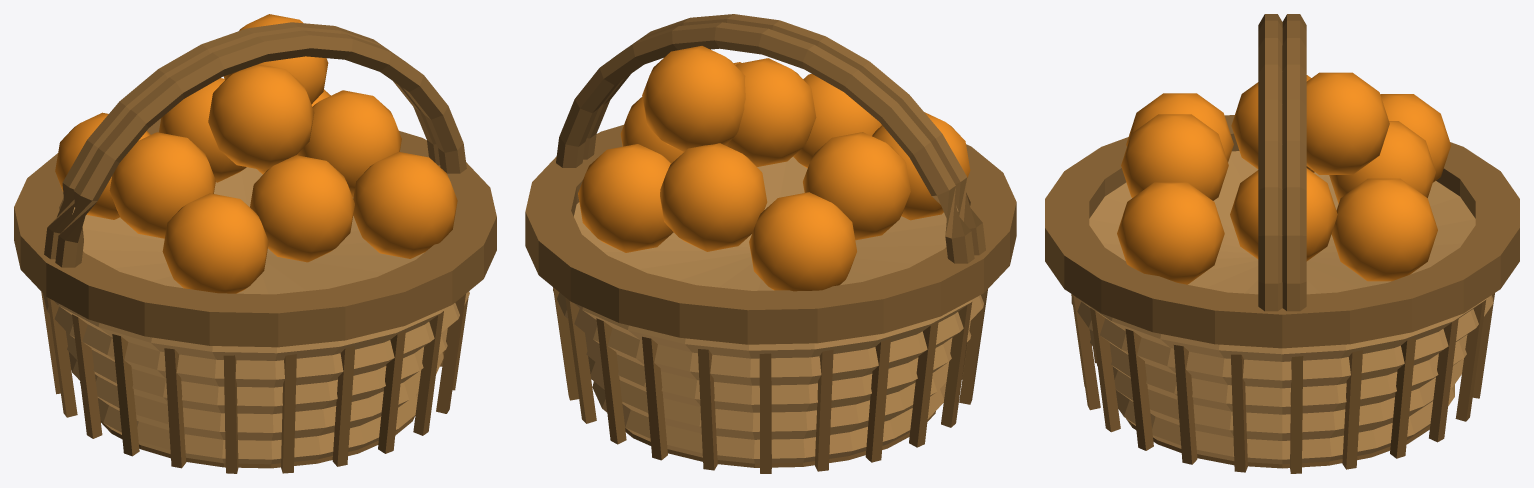
File: decoracion-canasta-naranjas.glb
3 renders of one model, left to right at view 1: azimuth 30°, elevation 25°; view 2: azimuth 150°, elevation 25°; view 3: azimuth 270°, elevation 25°, orthographic. The views are drawn at different scales.
Visible parts, largest first — view 1: canasta_naranjas_MimbreOscuro, canasta_naranjas_FrutaNaranja, canasta_naranjas_Mimbre; view 2: canasta_naranjas_MimbreOscuro, canasta_naranjas_FrutaNaranja, canasta_naranjas_Mimbre; view 3: canasta_naranjas_MimbreOscuro, canasta_naranjas_FrutaNaranja, canasta_naranjas_Mimbre.
Boxes of the visible parts, box(x1,y1,x2,y2) form: canasta_naranjas_MimbreOscuro: box(14, 22, 496, 473); canasta_naranjas_FrutaNaranja: box(55, 14, 457, 293); canasta_naranjas_Mimbre: box(43, 167, 469, 464); canasta_naranjas_MimbreOscuro: box(525, 14, 1016, 473); canasta_naranjas_FrutaNaranja: box(578, 46, 970, 291); canasta_naranjas_Mimbre: box(553, 157, 983, 463); canasta_naranjas_MimbreOscuro: box(1045, 14, 1519, 473); canasta_naranjas_FrutaNaranja: box(1117, 72, 1450, 284); canasta_naranjas_Mimbre: box(1071, 151, 1493, 464).
Bounding box in the file's own units: 0.516 × 0.4281 × 0.5107.
